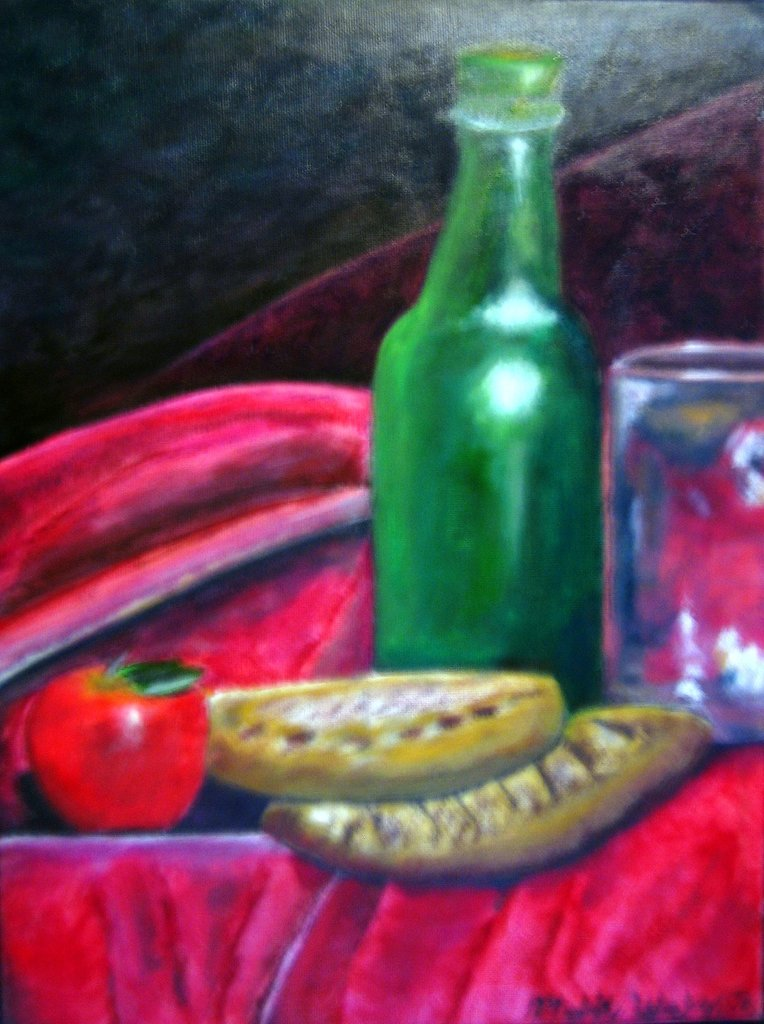Apple: (9, 658, 220, 834)
